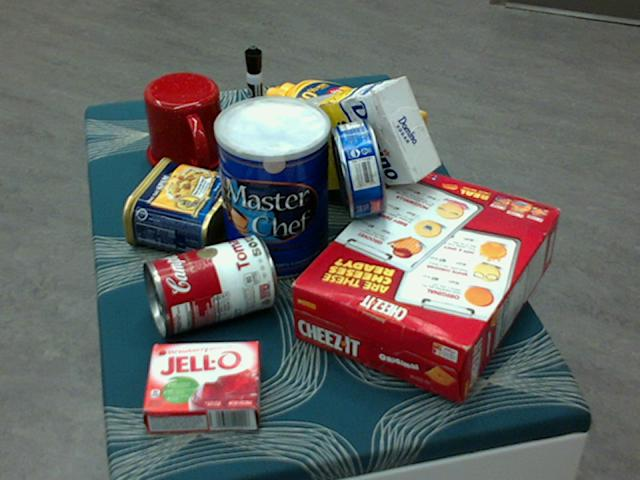cracker_box: (289, 165, 560, 401)
gelatin_box: (143, 340, 260, 430)
large_marker: (243, 45, 265, 148)
master_chef_can: (213, 97, 329, 282)
mug: (143, 73, 229, 175)
mustard_bottle: (264, 79, 425, 172)
potted_meat_can: (121, 157, 242, 256)
sugar_box: (271, 78, 439, 190)
tomato_soup_can: (142, 235, 275, 334)
tuna_fish_can: (331, 117, 387, 216)
